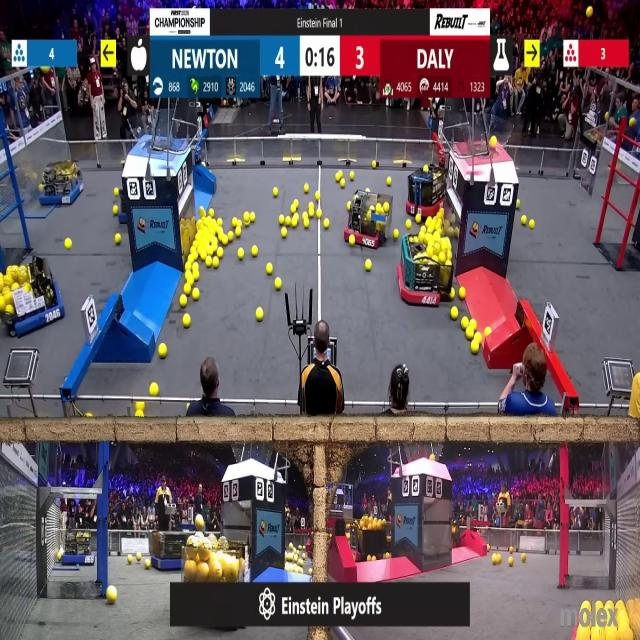ball_airborne: (491, 136, 497, 148), (588, 7, 593, 16)
ball_ground: (106, 586, 117, 604), (471, 336, 481, 350), (160, 344, 169, 359), (194, 516, 203, 531), (186, 561, 196, 574), (149, 383, 158, 397), (200, 562, 209, 576), (576, 626, 586, 638), (212, 256, 221, 269), (182, 313, 190, 327), (136, 400, 144, 413), (470, 342, 478, 354), (191, 249, 199, 261), (256, 308, 263, 321), (339, 176, 346, 189), (191, 288, 198, 300), (205, 255, 212, 267), (183, 282, 190, 294), (593, 626, 600, 638), (290, 216, 298, 226), (192, 269, 198, 282), (364, 261, 371, 272), (493, 554, 500, 565), (452, 307, 458, 319), (228, 230, 234, 242), (136, 409, 144, 418), (192, 265, 198, 277), (618, 600, 626, 609), (180, 295, 187, 305), (231, 216, 238, 226), (349, 236, 356, 246), (459, 288, 466, 298), (584, 600, 591, 610), (250, 212, 256, 223), (200, 254, 208, 262), (251, 247, 258, 256), (469, 320, 476, 329), (584, 616, 591, 625), (268, 265, 274, 275), (239, 248, 245, 258), (529, 218, 535, 228), (276, 279, 282, 289), (462, 318, 468, 328), (280, 215, 286, 225), (465, 328, 471, 338), (507, 556, 513, 566), (244, 213, 250, 223), (185, 272, 191, 282), (200, 208, 206, 218), (290, 205, 296, 215), (606, 600, 612, 610), (384, 203, 390, 213), (208, 246, 214, 256), (218, 233, 224, 243), (315, 209, 322, 217), (308, 202, 315, 210), (187, 254, 194, 262), (115, 234, 120, 245), (304, 218, 309, 229), (66, 240, 72, 249), (309, 208, 315, 217), (236, 219, 242, 228), (282, 229, 287, 239), (324, 218, 329, 228), (451, 289, 456, 299), (294, 198, 299, 208), (190, 242, 197, 249), (350, 172, 356, 180), (185, 261, 191, 269), (486, 327, 492, 335), (472, 329, 478, 337), (510, 545, 518, 551), (209, 240, 215, 248), (522, 216, 527, 225), (522, 554, 527, 563), (114, 187, 119, 196), (223, 237, 228, 246), (112, 207, 118, 214), (370, 162, 376, 169), (236, 228, 242, 235), (452, 527, 458, 534), (430, 455, 436, 462), (387, 177, 392, 185), (305, 183, 310, 191), (347, 203, 352, 211), (218, 217, 223, 225), (408, 220, 413, 228), (209, 208, 214, 216), (137, 554, 142, 562), (129, 556, 134, 564), (193, 234, 198, 242), (394, 231, 398, 240), (274, 187, 278, 196), (218, 247, 222, 256), (507, 545, 513, 551), (386, 553, 391, 560), (297, 560, 302, 567), (297, 567, 302, 574), (146, 560, 150, 568), (316, 190, 320, 198), (192, 217, 196, 225), (488, 544, 493, 550)
goal: (455, 114, 516, 156), (126, 112, 186, 151)
robot_blue: (0, 248, 64, 338), (39, 159, 85, 204), (150, 530, 189, 568), (59, 530, 91, 564)
robot_red: (398, 232, 448, 304), (343, 188, 390, 248), (406, 163, 447, 217), (345, 514, 392, 561)
